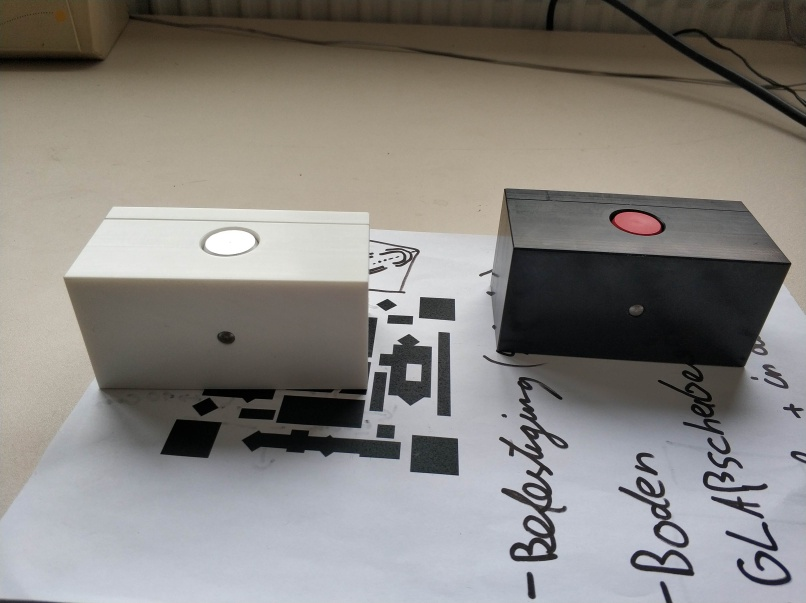black+black+red: (486, 184, 793, 369)
white+white+silver: (62, 203, 371, 391)
